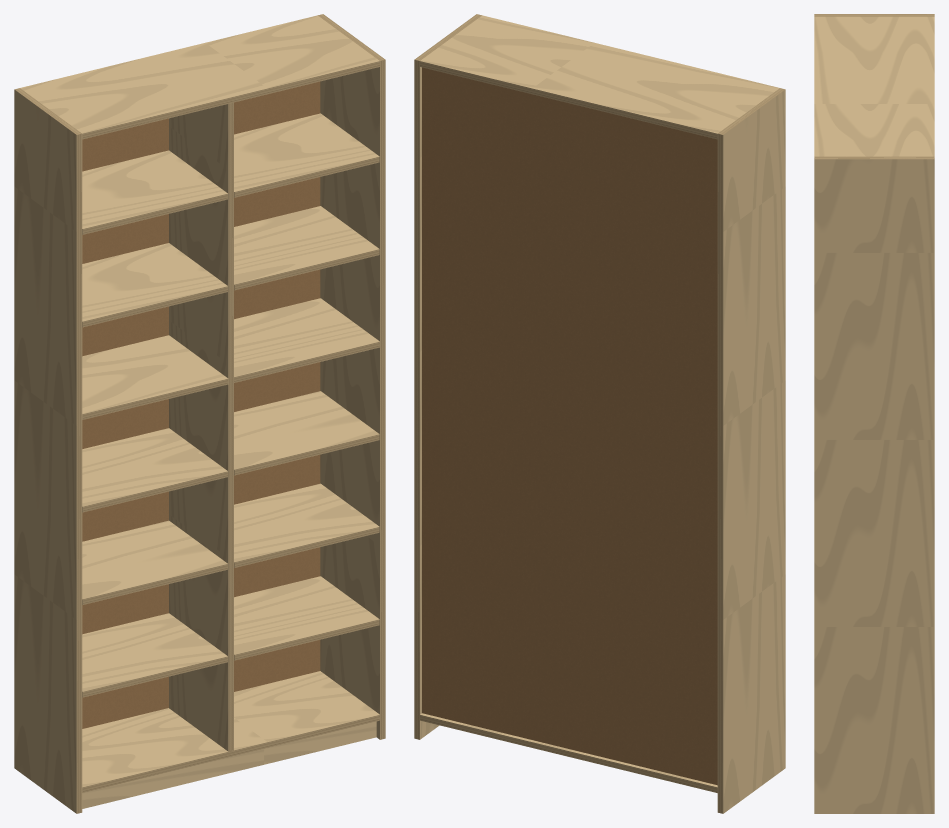
Rendered from SAB-BKC-tall.glb.
3 renders of one model, left to right at view 1: azimuth 30°, elevation 25°; view 2: azimuth 150°, elevation 25°; view 3: azimuth 270°, elevation 25°, orthographic. The views are drawn at different scales.
Visible parts, largest first — view 1: side-l:sheet:eyJtIjoicGx5Iiwic2lkZSI6ImZhY2UiLCJzZWVkIjoxLCJ, back:sheet:eyJtIjoibWRmIiwic2lkZSI6ImZhY2UiLCJzZWVkIjowLCJ0a, partition:sheet:eyJtIjoicGx5Iiwic2lkZSI6ImZhY2UiLCJzZWVkIjo0, side-r:sheet:eyJtIjoicGx5Iiwic2lkZSI6ImZhY2UiLCJzZWVkIjozLCJ, top:sheet:eyJtIjoicGx5Iiwic2lkZSI6ImZhY2UiLCJzZWVkIjo2LCJ2ZW, bottom:sheet:eyJtIjoicGx5Iiwic2lkZSI6ImZhY2UiLCJzZWVkIjowLCJ, shelf-fixedl:sheet:eyJtIjoicGx5Iiwic2lkZSI6ImZhY2UiLCJzZWVkI, shelf-fixedr:sheet:eyJtIjoicGx5Iiwic2lkZSI6ImZhY2UiLCJzZWVkI, shelf-1:sheet:eyJtIjoicGx5Iiwic2lkZSI6ImZhY2UiLCJzZWVkIjoyLC, shelf-7:sheet:eyJtIjoicGx5Iiwic2lkZSI6ImZhY2UiLCJzZWVkIjo0LC, shelf-9:sheet:eyJtIjoicGx5Iiwic2lkZSI6ImZhY2UiLCJzZWVkIjo0LC, shelf-3:sheet:eyJtIjoicGx5Iiwic2lkZSI6ImZhY2UiLCJzZWVkIjoxLC (+24 smaller); view 2: back:sheet:eyJtIjoibWRmIiwic2lkZSI6ImZhY2UiLCJzZWVkIjowLCJ0a, side-l:sheet:eyJtIjoicGx5Iiwic2lkZSI6ImZhY2UiLCJzZWVkIjoxLCJ, top:sheet:eyJtIjoicGx5Iiwic2lkZSI6ImZhY2UiLCJzZWVkIjo2LCJ2ZW, side-l:sheet:eyJtIjoicGx5Iiwic2lkZSI6ImVkZ2UtbG9uZyIsInNlZWQ, side-r:sheet:eyJtIjoicGx5Iiwic2lkZSI6ImVkZ2UtbG9uZyIsInNlZWQ, top:sheet:eyJtIjoicGx5Iiwic2lkZSI6ImVkZ2UtbG9uZyIsInNlZWQiOj, bottom:sheet:eyJtIjoicGx5Iiwic2lkZSI6ImVkZ2UtbG9uZyIsInNlZWQ, side-r:sheet:eyJtIjoicGx5Iiwic2lkZSI6ImZhY2UiLCJzZWVkIjozLCJ, bottom:sheet:eyJtIjoicGx5Iiwic2lkZSI6ImZhY2UiLCJzZWVkIjowLCJ; view 3: side-r:sheet:eyJtIjoicGx5Iiwic2lkZSI6ImZhY2UiLCJzZWVkIjozLCJ, top:sheet:eyJtIjoicGx5Iiwic2lkZSI6ImZhY2UiLCJzZWVkIjo2LCJ2ZW, side-r:sheet:eyJtIjoicGx5Iiwic2lkZSI6ImVkZ2UtZW5kIiwic2VlZCI, side-l:sheet:eyJtIjoicGx5Iiwic2lkZSI6ImVkZ2UtZW5kIiwic2VlZCI.
Part boxes in pixels (x1,y1,x2,y2): side-l:sheet:eyJtIjoicGx5Iiwic2lkZSI6ImZhY2UiLCJzZWVkIjoxLCJ: [14, 89, 76, 813]; back:sheet:eyJtIjoibWRmIiwic2lkZSI6ImZhY2UiLCJzZWVkIjowLCJ0a: [82, 81, 320, 728]; partition:sheet:eyJtIjoicGx5Iiwic2lkZSI6ImZhY2UiLCJzZWVkIjo0: [169, 104, 228, 751]; side-r:sheet:eyJtIjoicGx5Iiwic2lkZSI6ImZhY2UiLCJzZWVkIjozLCJ: [320, 67, 379, 739]; top:sheet:eyJtIjoicGx5Iiwic2lkZSI6ImZhY2UiLCJzZWVkIjo2LCJ2ZW: [20, 15, 379, 133]; bottom:sheet:eyJtIjoicGx5Iiwic2lkZSI6ImZhY2UiLCJzZWVkIjowLCJ: [82, 671, 379, 787]; shelf-fixedl:sheet:eyJtIjoicGx5Iiwic2lkZSI6ImZhY2UiLCJzZWVkI: [82, 335, 227, 413]; shelf-fixedr:sheet:eyJtIjoicGx5Iiwic2lkZSI6ImZhY2UiLCJzZWVkI: [234, 298, 379, 376]; shelf-1:sheet:eyJtIjoicGx5Iiwic2lkZSI6ImZhY2UiLCJzZWVkIjoyLC: [82, 613, 227, 691]; shelf-7:sheet:eyJtIjoicGx5Iiwic2lkZSI6ImZhY2UiLCJzZWVkIjo0LC: [82, 243, 227, 321]; shelf-9:sheet:eyJtIjoicGx5Iiwic2lkZSI6ImZhY2UiLCJzZWVkIjo0LC: [82, 150, 227, 228]; shelf-3:sheet:eyJtIjoicGx5Iiwic2lkZSI6ImZhY2UiLCJzZWVkIjoxLC: [82, 520, 227, 599]; back:sheet:eyJtIjoibWRmIiwic2lkZSI6ImZhY2UiLCJzZWVkIjowLCJ0a: [422, 67, 717, 785]; side-l:sheet:eyJtIjoicGx5Iiwic2lkZSI6ImZhY2UiLCJzZWVkIjoxLCJ: [723, 89, 785, 813]; top:sheet:eyJtIjoicGx5Iiwic2lkZSI6ImZhY2UiLCJzZWVkIjo2LCJ2ZW: [420, 15, 779, 133]; side-l:sheet:eyJtIjoicGx5Iiwic2lkZSI6ImVkZ2UtbG9uZyIsInNlZWQ: [717, 134, 723, 813]; side-r:sheet:eyJtIjoicGx5Iiwic2lkZSI6ImVkZ2UtbG9uZyIsInNlZWQ: [414, 59, 419, 739]; top:sheet:eyJtIjoicGx5Iiwic2lkZSI6ImVkZ2UtbG9uZyIsInNlZWQiOj: [420, 61, 717, 139]; bottom:sheet:eyJtIjoicGx5Iiwic2lkZSI6ImVkZ2UtbG9uZyIsInNlZWQ: [420, 715, 717, 792]; side-r:sheet:eyJtIjoicGx5Iiwic2lkZSI6ImZhY2UiLCJzZWVkIjozLCJ: [420, 67, 439, 739]; bottom:sheet:eyJtIjoicGx5Iiwic2lkZSI6ImZhY2UiLCJzZWVkIjowLCJ: [420, 713, 717, 787]; side-r:sheet:eyJtIjoicGx5Iiwic2lkZSI6ImZhY2UiLCJzZWVkIjozLCJ: [814, 159, 934, 813]; top:sheet:eyJtIjoicGx5Iiwic2lkZSI6ImZhY2UiLCJzZWVkIjo2LCJ2ZW: [814, 16, 934, 156]; side-r:sheet:eyJtIjoicGx5Iiwic2lkZSI6ImVkZ2UtZW5kIiwic2VlZCI: [814, 156, 934, 159]; side-l:sheet:eyJtIjoicGx5Iiwic2lkZSI6ImVkZ2UtZW5kIiwic2VlZCI: [814, 14, 934, 16].
Size of the model in its own units: 1 by 2.1 by 0.35.
Materials: 57 (57 with a texture image).
